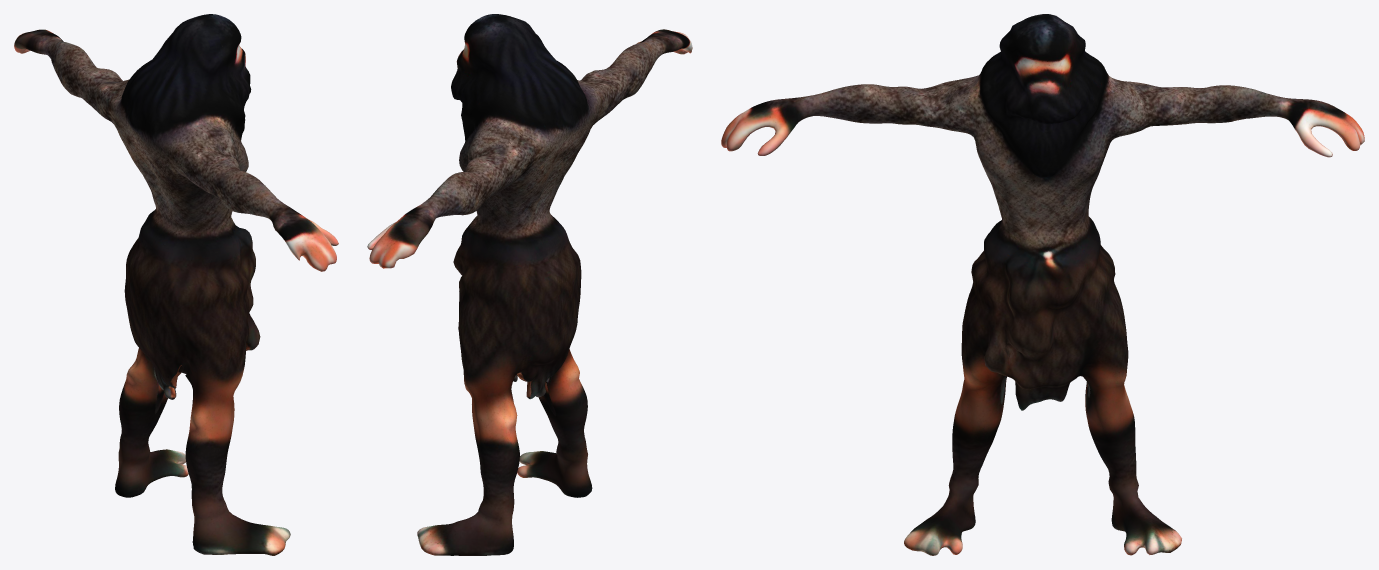
The model's file is ment.glb.
3 views of the same model, side by side, from view 1: azimuth 30°, elevation 25°; view 2: azimuth 150°, elevation 25°; view 3: azimuth 270°, elevation 25° (orthographic). The views are drawn at different scales.
Visible parts, largest first — view 1: mesh; view 2: mesh; view 3: mesh.
Part boxes in pixels (x1,y1,x2,y2): mesh: [14, 14, 338, 555]; mesh: [367, 14, 692, 555]; mesh: [721, 14, 1364, 555].
Bounding box in the file's own units: 0.2207 × 0.9064 × 0.9982.
1 material, 1 textured.
